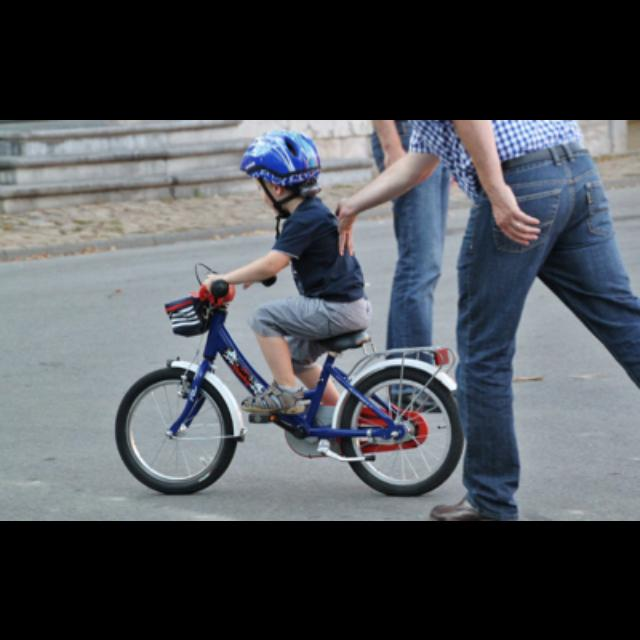With Helmet: (235, 122, 321, 215)
